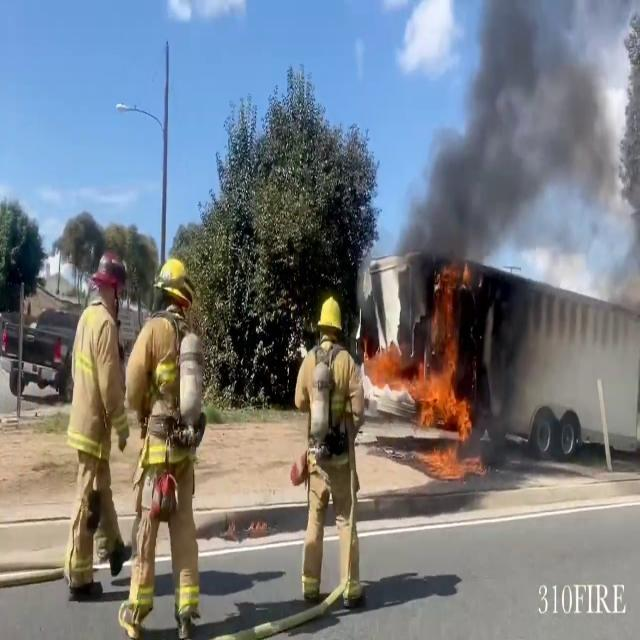Fire: (397, 276, 479, 467)
Smoke: (404, 0, 640, 284)
